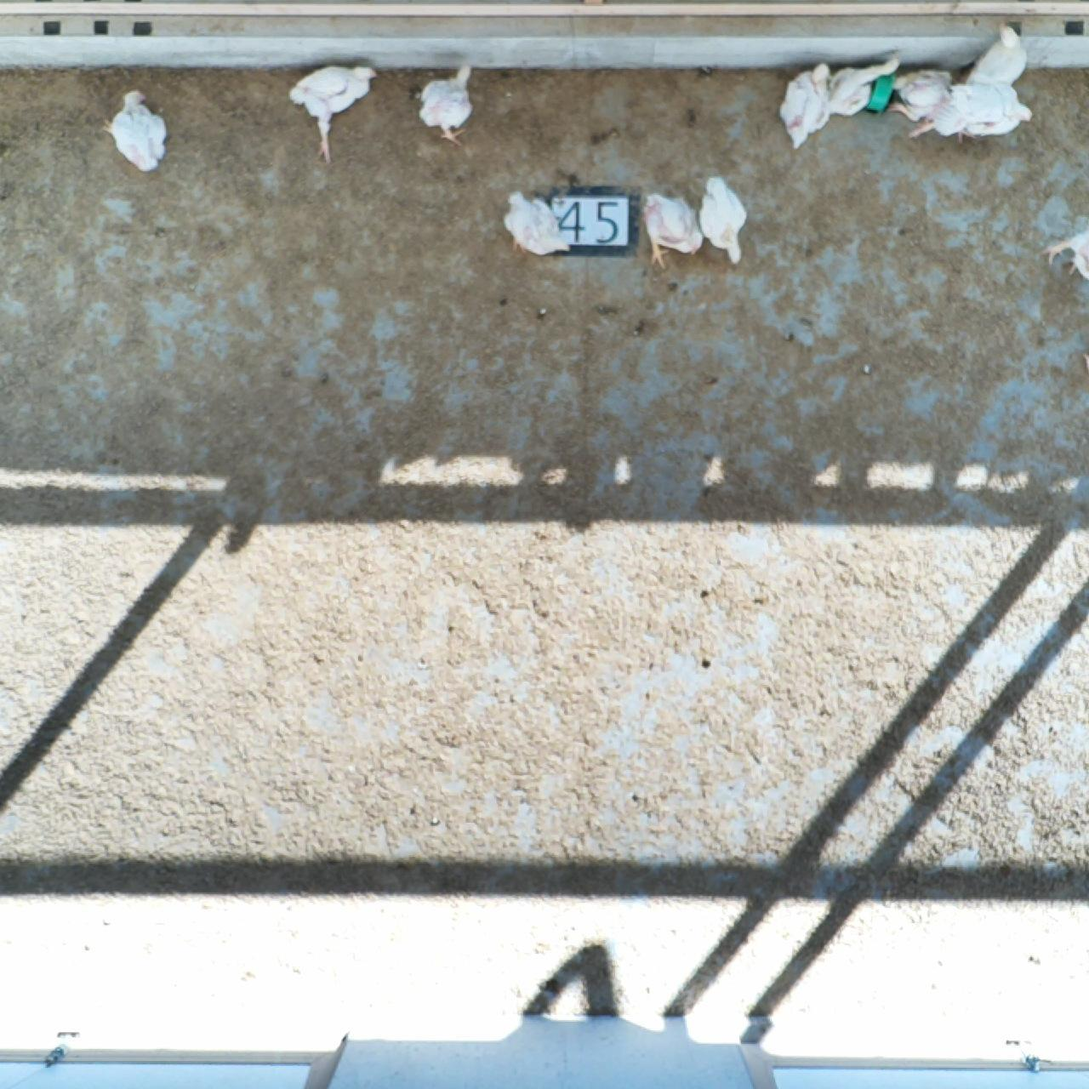chicken: (284, 59, 375, 153), (402, 58, 483, 145), (111, 94, 181, 173), (958, 80, 1032, 149), (928, 77, 1003, 145), (637, 187, 704, 262), (783, 60, 837, 149), (696, 173, 744, 273), (502, 194, 573, 259), (964, 26, 1030, 86), (832, 58, 896, 116), (892, 65, 953, 123), (1041, 224, 1089, 279)
